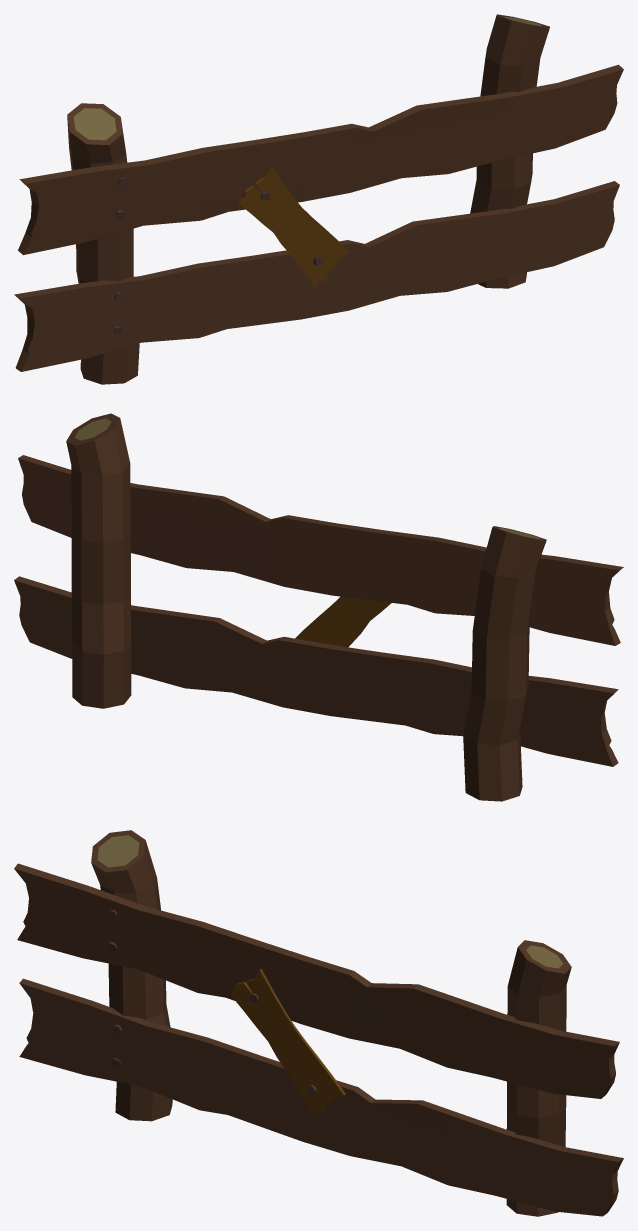
File: Pagar2.fbx
3 views of the same model, one above another, from view 1: azimuth 30°, elevation 25°; view 2: azimuth 150°, elevation 25°; view 3: azimuth 330°, elevation 25° (orthographic).
Visible parts, largest first — view 1: Circle.004; view 2: Circle.004; view 3: Circle.004.
Boxes of the visible parts, x1,y1,x2,y2 form: Circle.004: (14,14,623,384); Circle.004: (14,413,623,801); Circle.004: (14,830,623,1216).
Size of the model in its own units: 352 by 151 by 41.7.
